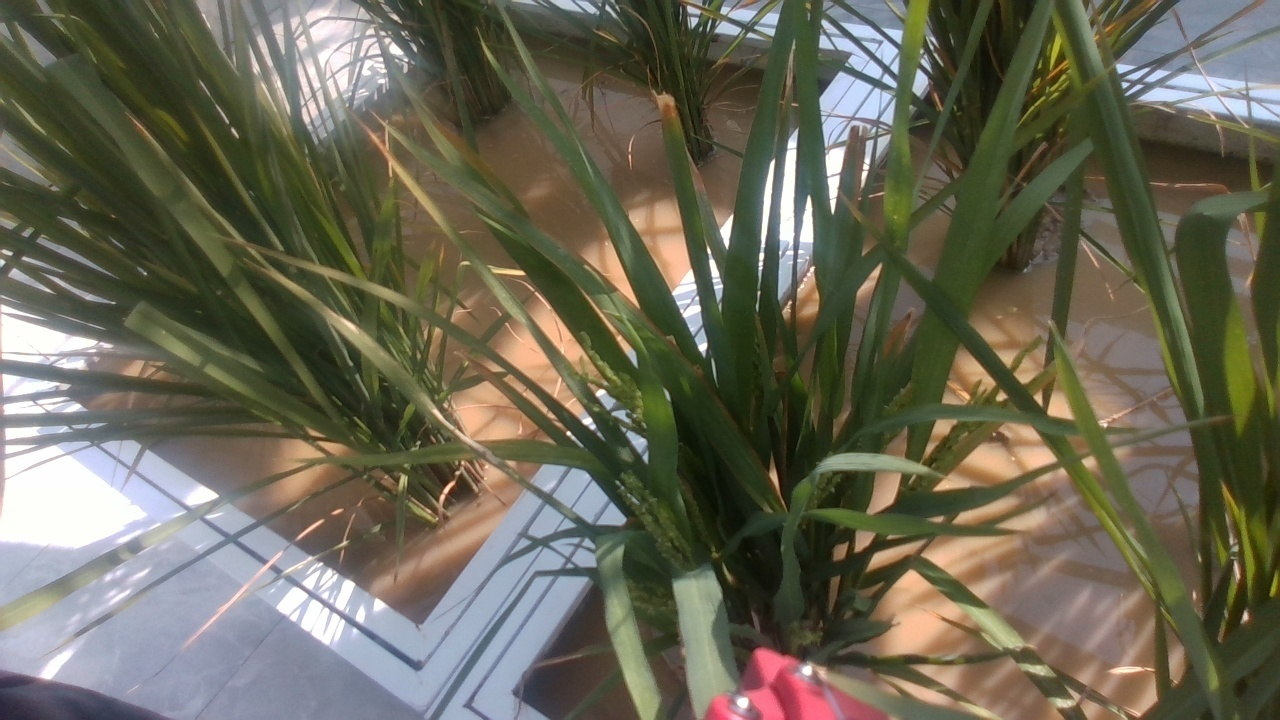panicle: (915, 342, 1038, 504), (611, 463, 697, 577), (568, 324, 666, 424)
